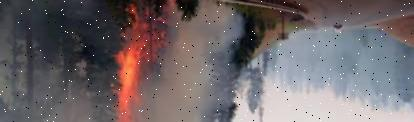fire: (109, 0, 173, 122)
